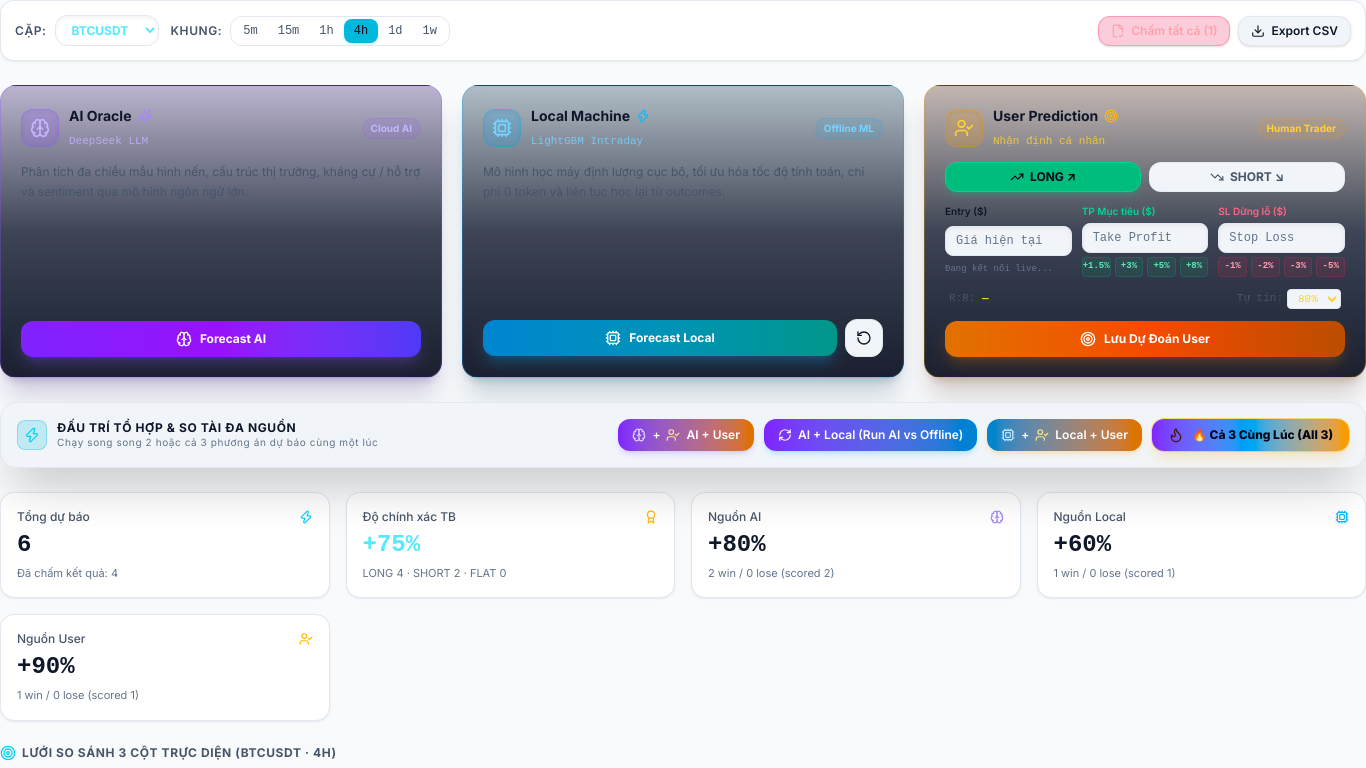
Scenario: ForecastCompare UI and 3-Cluster Command Deck › prompts confirmation when AI forecast has confidence < 60% and deletes when user clicks discard
The width and height of the screenshot is (1366, 768).
What coordinates should you click on to do the following:
click the button "Forecast AI"
I would click on:
 (221, 338)
Its box is [21, 320, 421, 356].
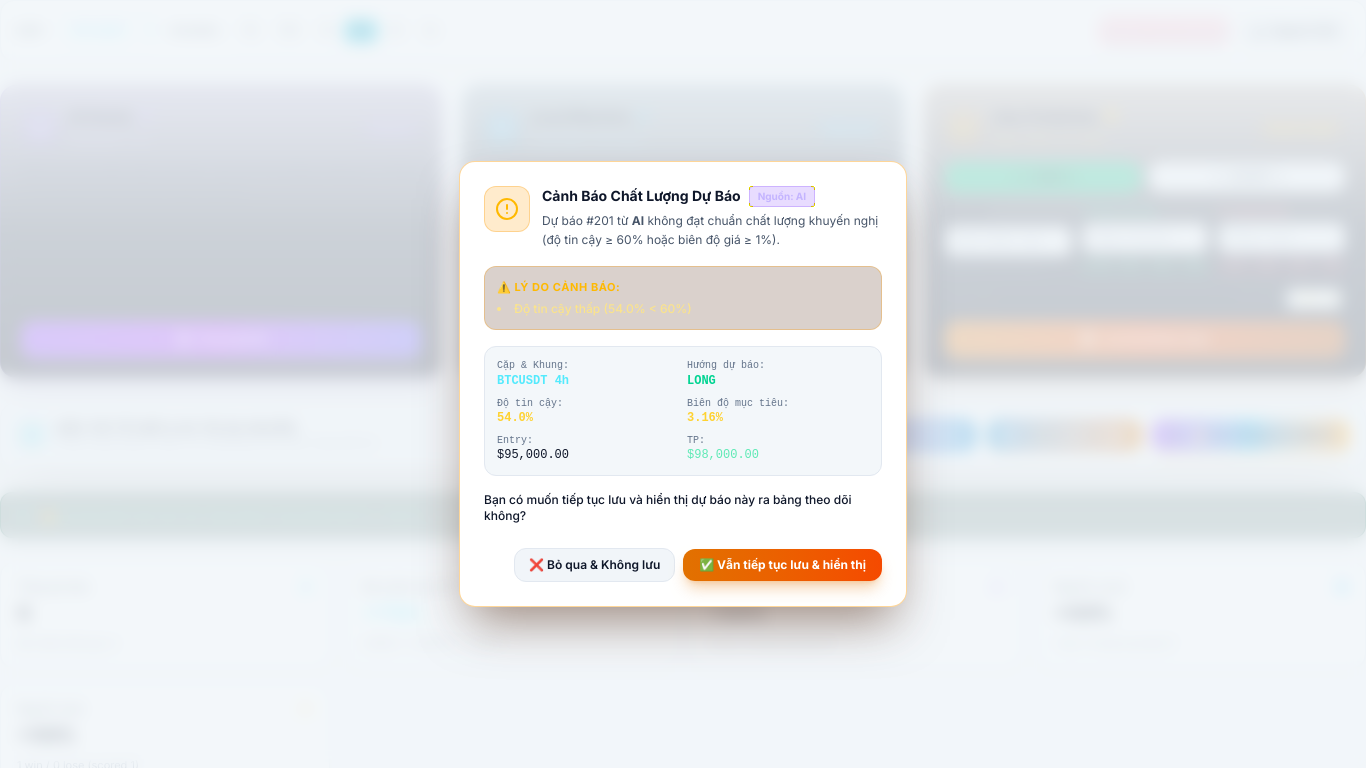
Check: the dialog is shown
Check: the heading "Cảnh Báo Chất Lượng Dự Báo" is shown, box [542, 186, 741, 206]
Click Discard
What coordinates should you click on to do the following:
click the button "❌ Bỏ qua & Không lưu"
I would click on:
 (595, 565)
Its box is [514, 548, 675, 582].
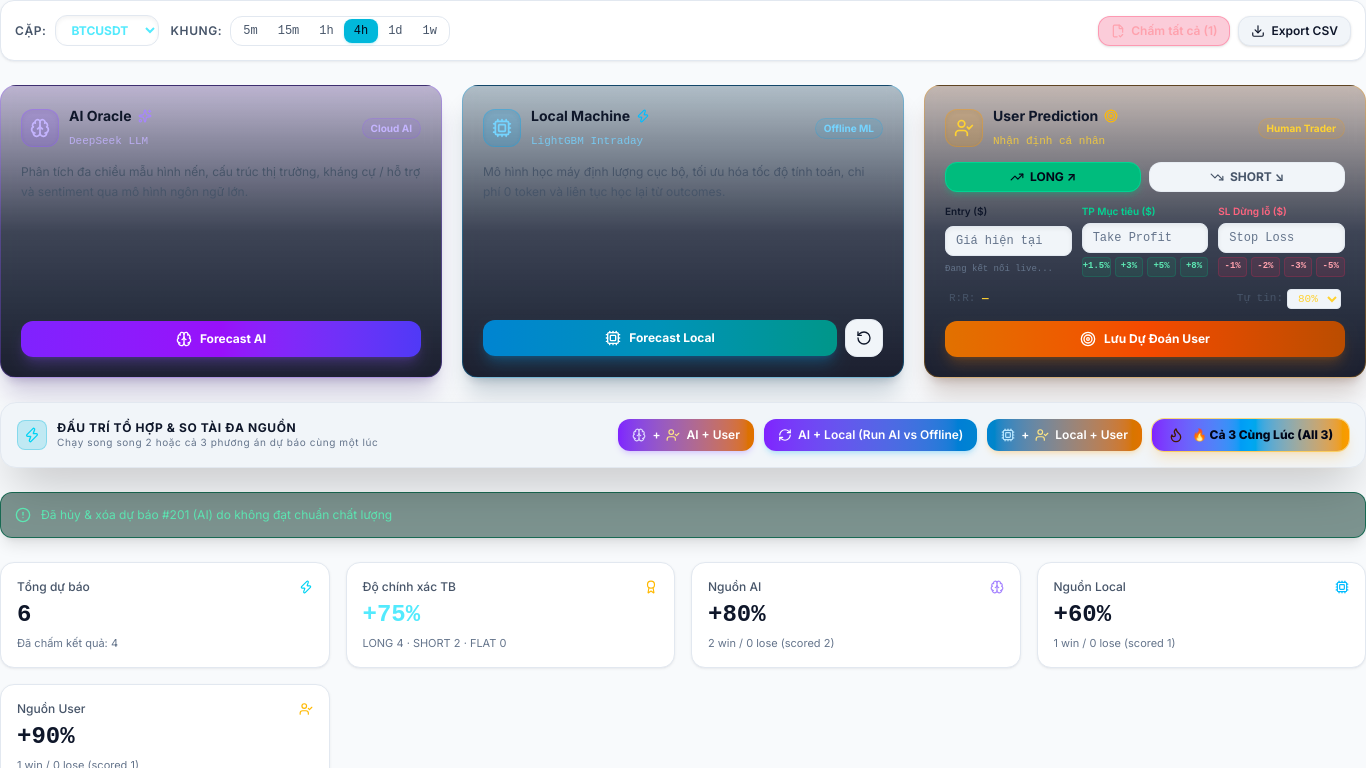
Check: the text "Đã hủy & xóa dự báo #201 (AI) do không đạt chuẩn chất lượng" is shown, box [41, 506, 392, 522]
Check: the dialog is gone
